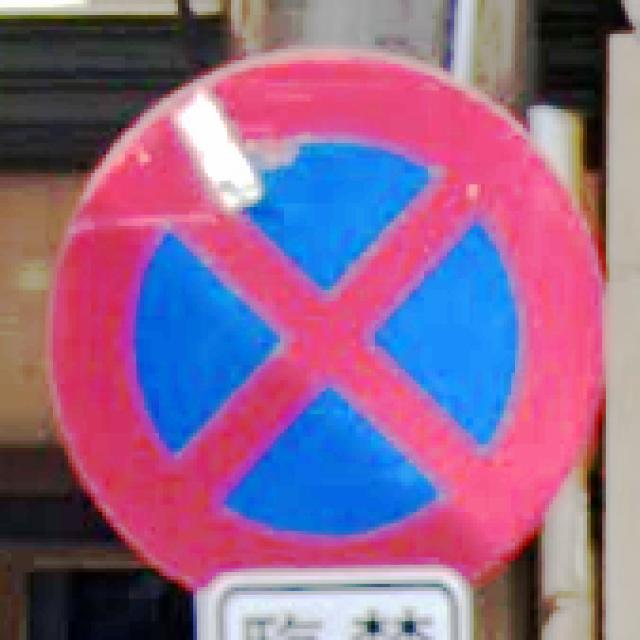nostop: (38, 41, 610, 591)
